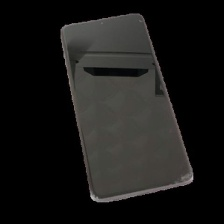phone: (57, 8, 197, 206)
